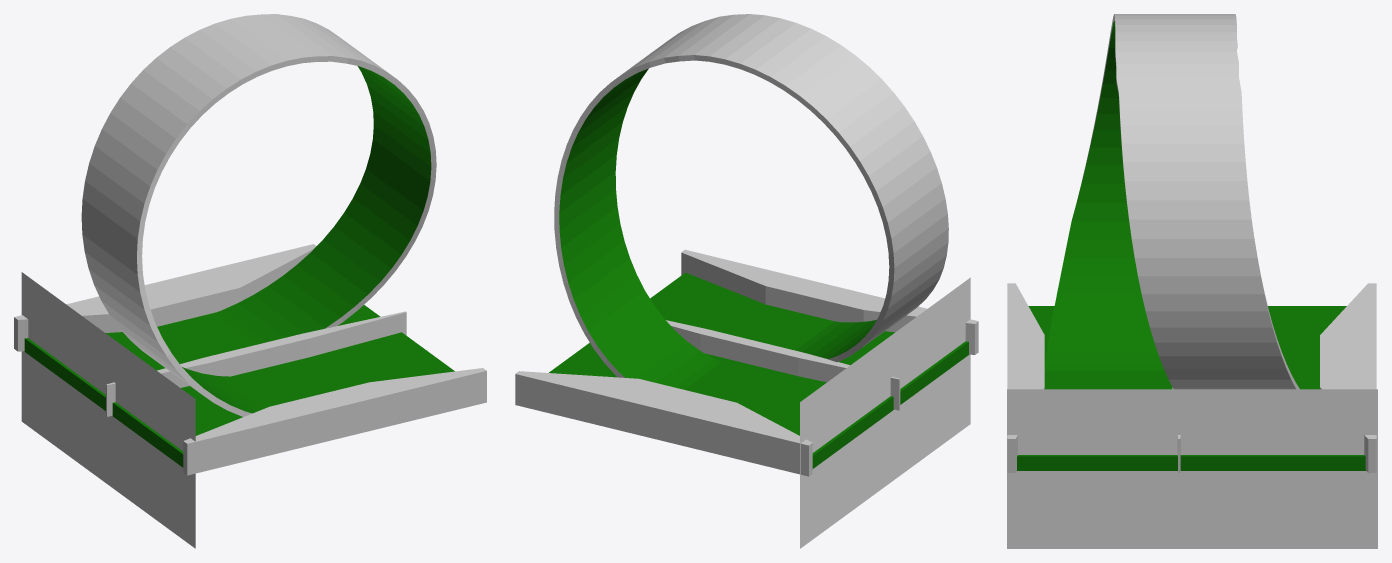
File: loopdeloop.gltf
3 views of the same model, side by side, from view 1: azimuth 30°, elevation 25°; view 2: azimuth 150°, elevation 25°; view 3: azimuth 270°, elevation 25° (orthographic). The views are drawn at different scales.
Visible parts, largest first — view 1: Circle, obj_snap.002, Cube, Cube.003, Cube.004, Cube.005; view 2: Circle, obj_snap.002, Cube, Cube.004, Cube.003, Cube.005; view 3: Circle, obj_snap.003, Cube, Cube.004, Cube.003.
Boxes of the visible parts, bbox=[...] form: Circle: bbox=[81, 14, 436, 416]; obj_snap.002: bbox=[21, 272, 195, 548]; Cube: bbox=[24, 305, 454, 467]; Cube.003: bbox=[183, 368, 486, 475]; Cube.004: bbox=[14, 244, 316, 351]; Cube.005: bbox=[106, 311, 406, 416]; Circle: bbox=[554, 14, 948, 389]; obj_snap.002: bbox=[800, 277, 970, 548]; Cube: bbox=[549, 272, 968, 468]; Cube.004: bbox=[515, 371, 812, 476]; Cube.003: bbox=[681, 249, 978, 354]; Cube.005: bbox=[666, 320, 900, 410]; Circle: bbox=[1045, 14, 1299, 389]; obj_snap.003: bbox=[1007, 389, 1377, 548]; Cube: bbox=[1017, 306, 1365, 470]; Cube.004: bbox=[1320, 283, 1376, 472]; Cube.003: bbox=[1007, 283, 1044, 472].
Bounding box in the file's own units: 4.48 × 5.56 × 4.21.
